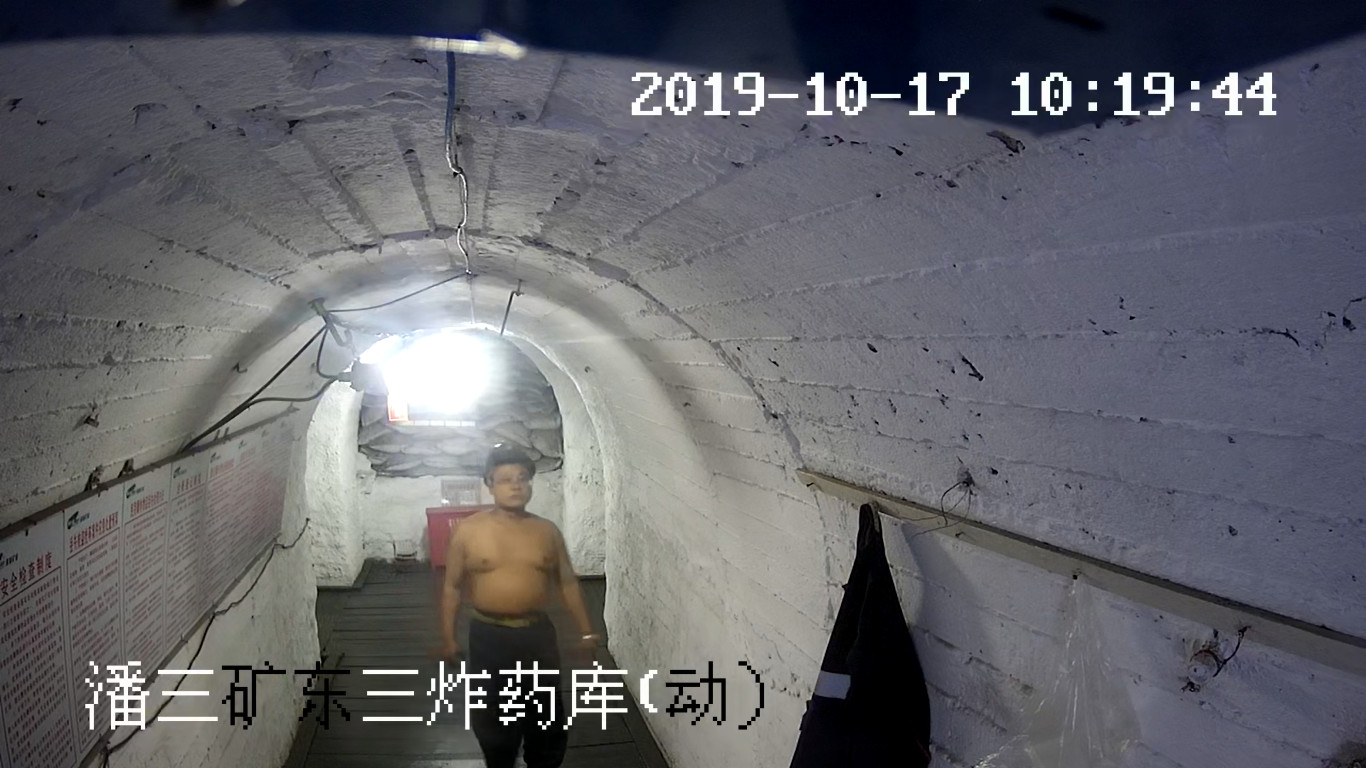helmet: (483, 441, 535, 486)
